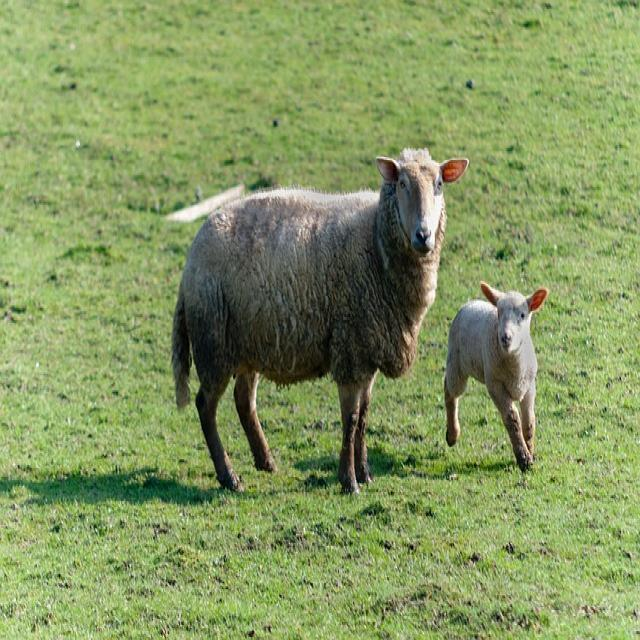sheep: (170, 145, 469, 495), (443, 280, 548, 472)
